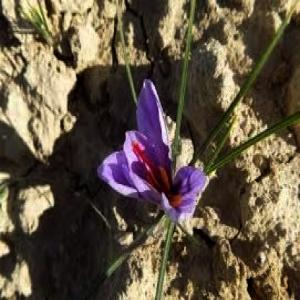Saffron: (95, 79, 209, 218)
